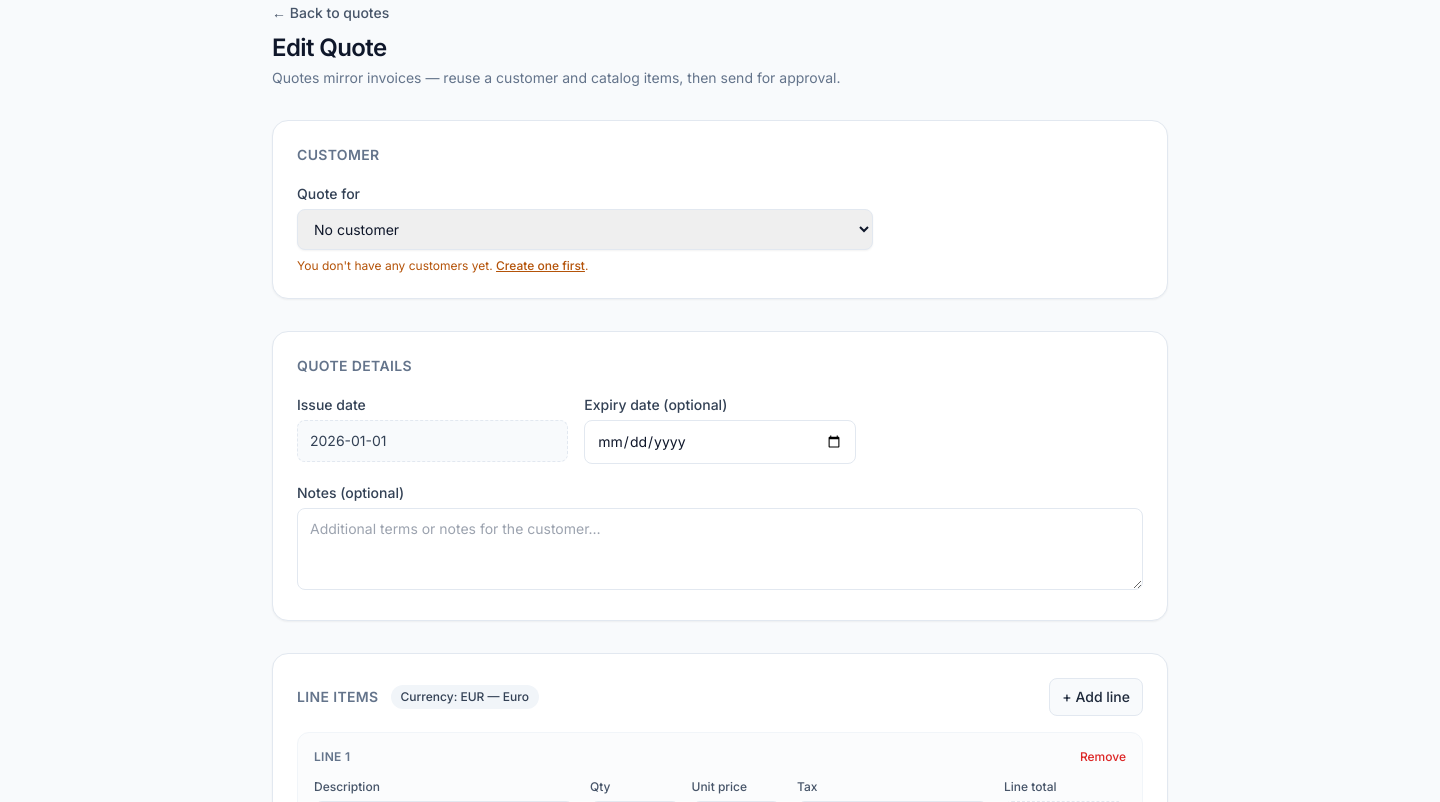
Scenario: QuoteForm — edit mode › blocks adding an incompatible-currency product to an existing quote
The width and height of the screenshot is (1440, 802).
Click the button "+ Add line" at (1096, 697), box [1049,678,1143,716]
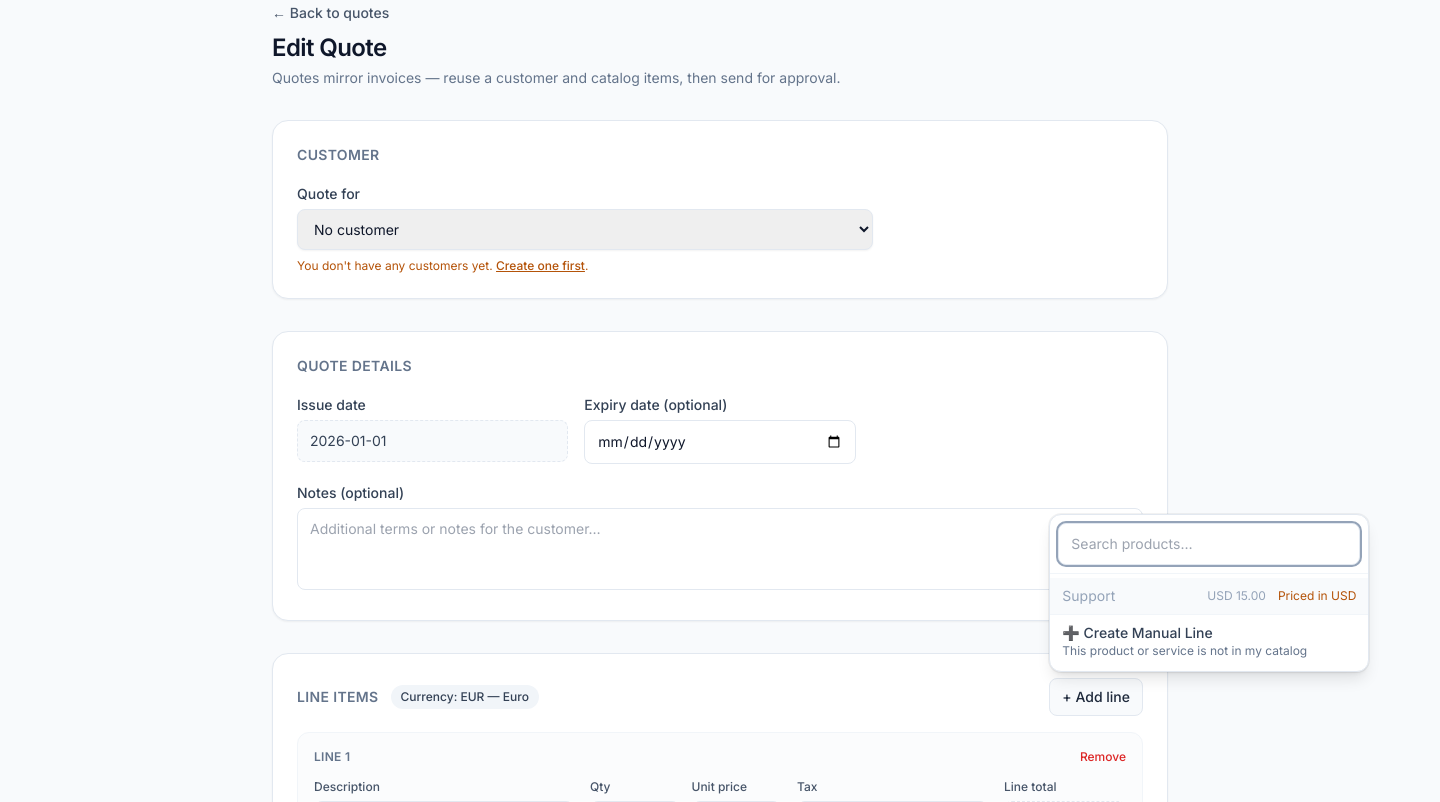
Expected: the text "Support" is shown, [1062,587,1115,604]
Expected: the option "Support USD 15.00 Priced in USD" is disabled, [1050,578,1368,614]
